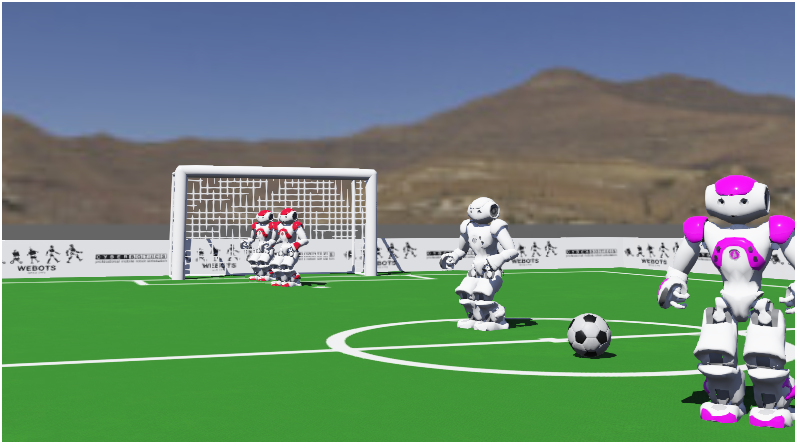Ball: (548, 302, 623, 372)
Goal: (159, 163, 387, 291), (436, 180, 520, 355)
Player: (667, 156, 797, 428), (239, 202, 322, 300)
